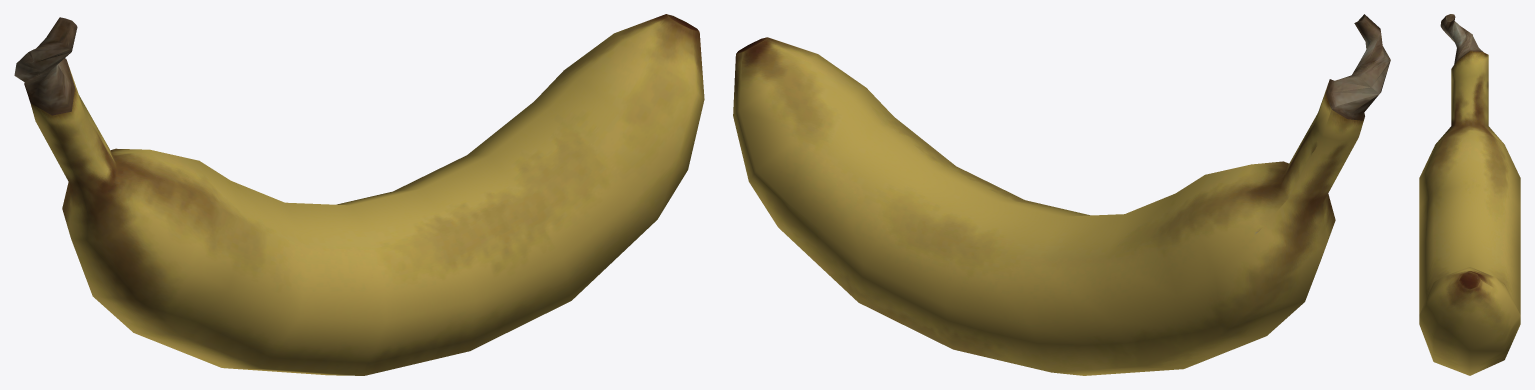
Rendered from banana.obj.
3 views of the same model, side by side, from view 1: azimuth 30°, elevation 25°; view 2: azimuth 150°, elevation 25°; view 3: azimuth 270°, elevation 25° (orthographic). The views are drawn at different scales.
Visible parts, largest first — view 1: submesh_0; view 2: submesh_0; view 3: submesh_0.
Boxes of the visible parts, left/top/right/bottom form: submesh_0: left=14, top=14, right=704, bottom=375; submesh_0: left=733, top=14, right=1390, bottom=375; submesh_0: left=1419, top=14, right=1520, bottom=375.
Bounding box in the file's own units: 3.51 × 2.16 × 0.8164.
Materials: 1 (1 with a texture image).
